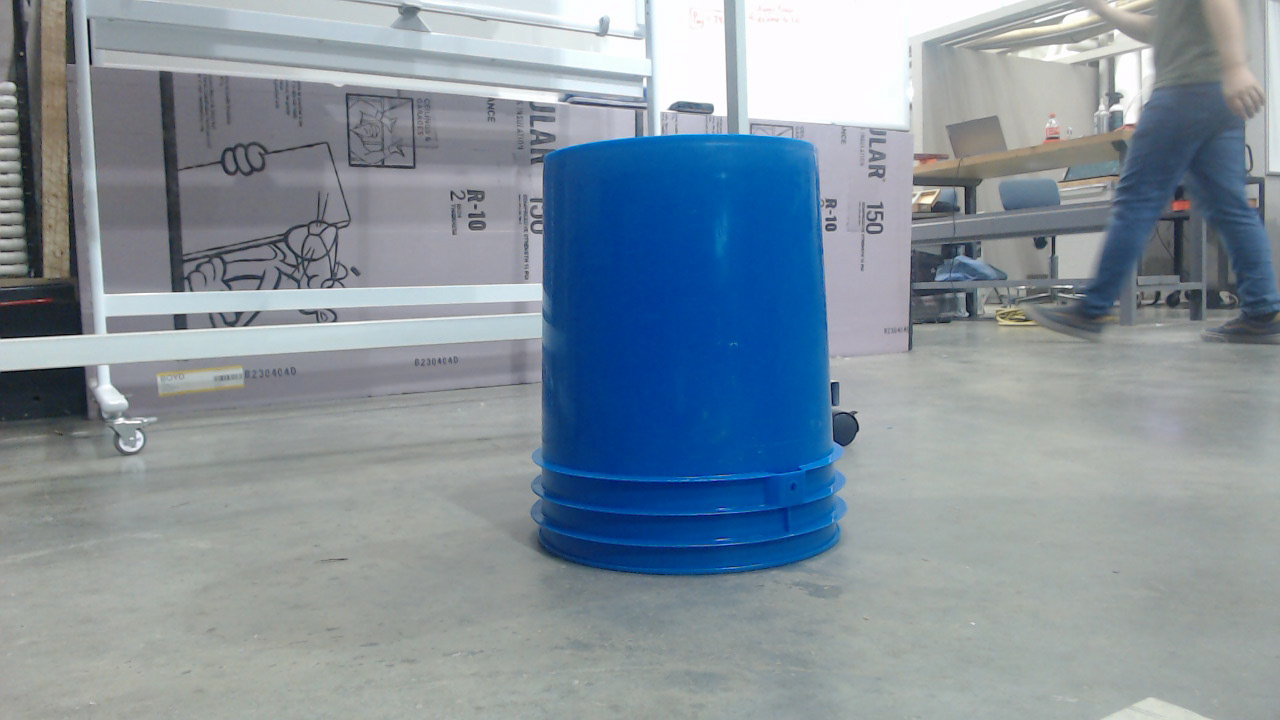blue_bucket: (532, 133, 859, 587)
